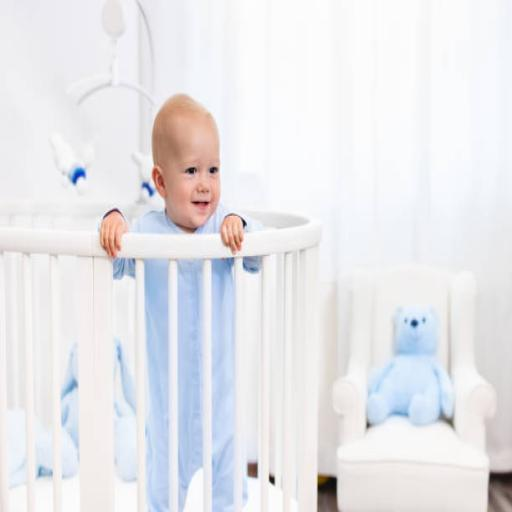baby: (145, 260, 168, 511)
crib: (0, 205, 117, 511)
